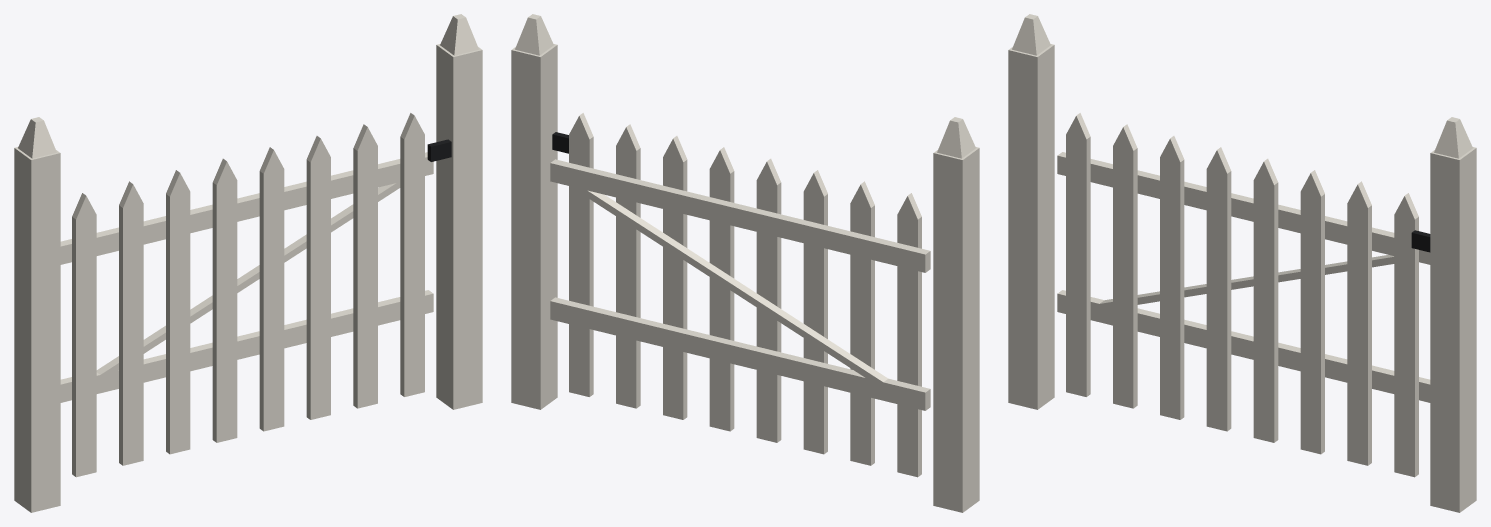
Rendered from picket_gate.glb.
3 renders of one model, left to right at view 1: azimuth 30°, elevation 25°; view 2: azimuth 150°, elevation 25°; view 3: azimuth 330°, elevation 25°, orthographic.
Visible parts, largest first — view 1: picket_gate; view 2: picket_gate; view 3: picket_gate.
Part boxes in pixels (left/top/right/bottom): picket_gate: left=14, top=14, right=482, bottom=512; picket_gate: left=511, top=14, right=979, bottom=512; picket_gate: left=1008, top=14, right=1476, bottom=512.
Bounding box in the file's own units: 1.54 × 1.25 × 0.1.
1 material, 1 textured.
